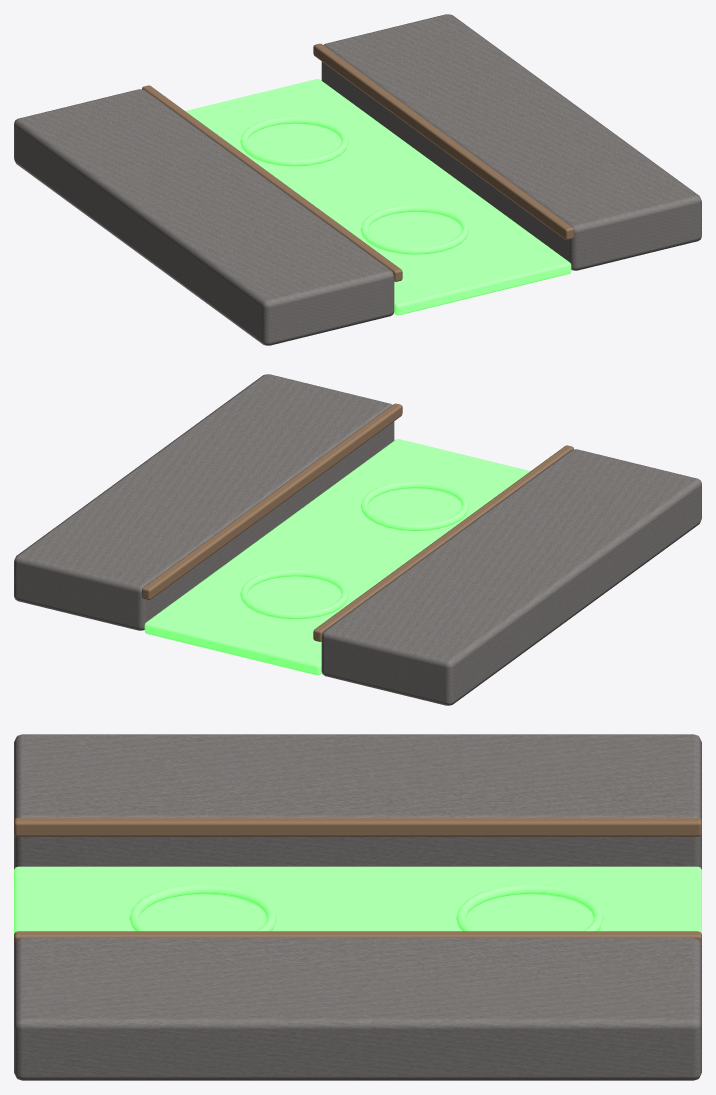
File: arena-shooter-map-kit-slime-channel-b6bb4c09__23079.glb
The picture shows the model from 3 angles, top to bottom: view 1: azimuth 30°, elevation 25°; view 2: azimuth 150°, elevation 25°; view 3: azimuth 270°, elevation 25°; orthographic projection. The views are drawn at different scales.
Visible parts, largest first — view 1: slime-channel; view 2: slime-channel; view 3: slime-channel.
Boxes of the visible parts, x1,y1,x2,y2 form: slime-channel: (14,14,701,345); slime-channel: (14,374,701,705); slime-channel: (14,734,701,1080).
Bounding box in the file's own units: 2 × 0.2001 × 2.
Materials: 3 (1 with a texture image).
